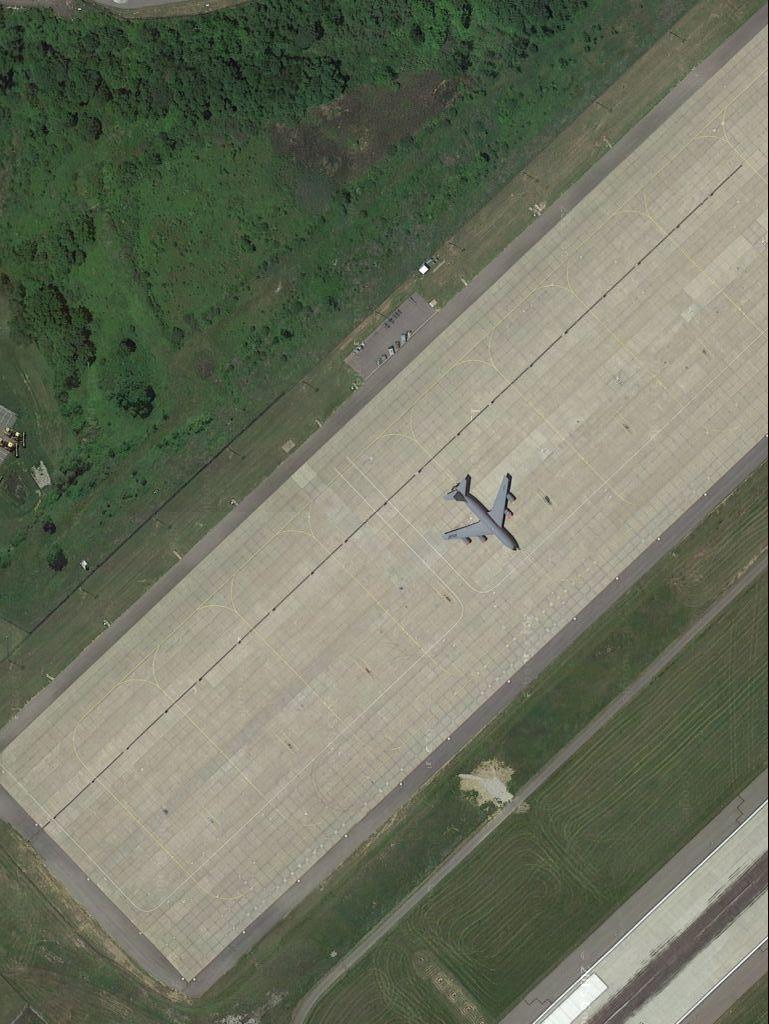KC-135: (439, 469, 523, 555)
